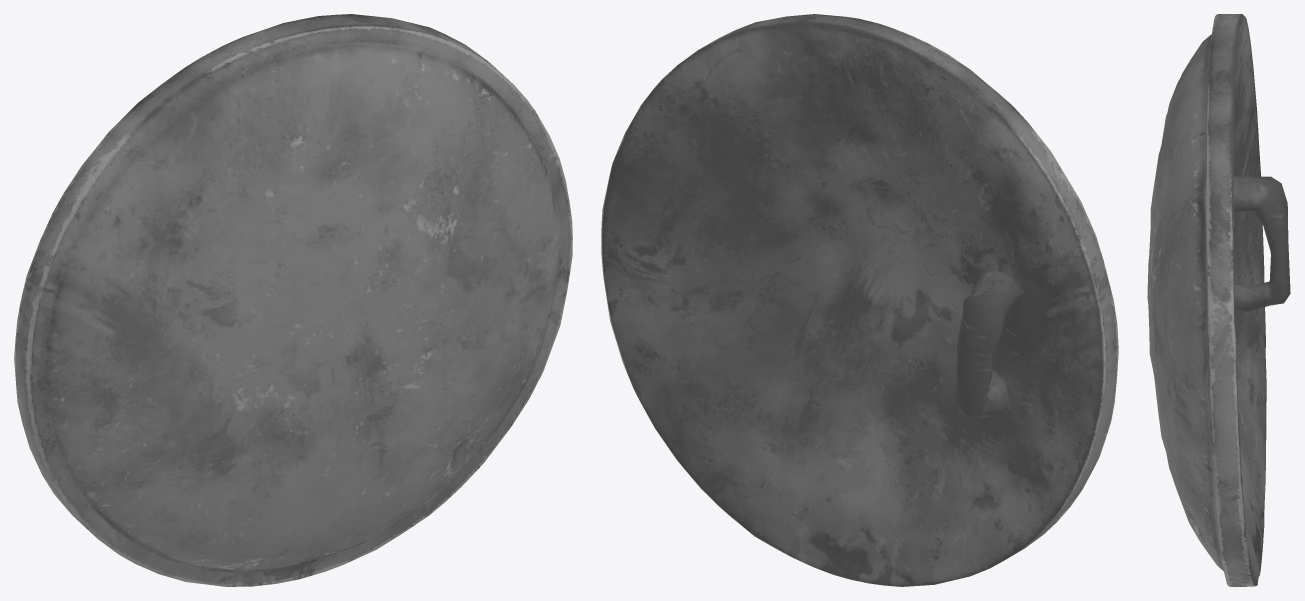
Rendered from Shield_Metal_5.glb.
3 renders of one model, left to right at view 1: azimuth 30°, elevation 25°; view 2: azimuth 150°, elevation 25°; view 3: azimuth 270°, elevation 25°, orthographic. The views are drawn at different scales.
Visible parts, largest first — view 1: Cylinder.004; view 2: Cylinder.004; view 3: Cylinder.004.
Boxes of the visible parts, x1,y1,x2,y2 form: Cylinder.004: (14, 14, 572, 586); Cylinder.004: (601, 14, 1118, 586); Cylinder.004: (1147, 14, 1290, 586).
Bounding box in the file's own units: 0.7459 × 0.7463 × 0.1863.
Materials: 1 (1 with a texture image).
